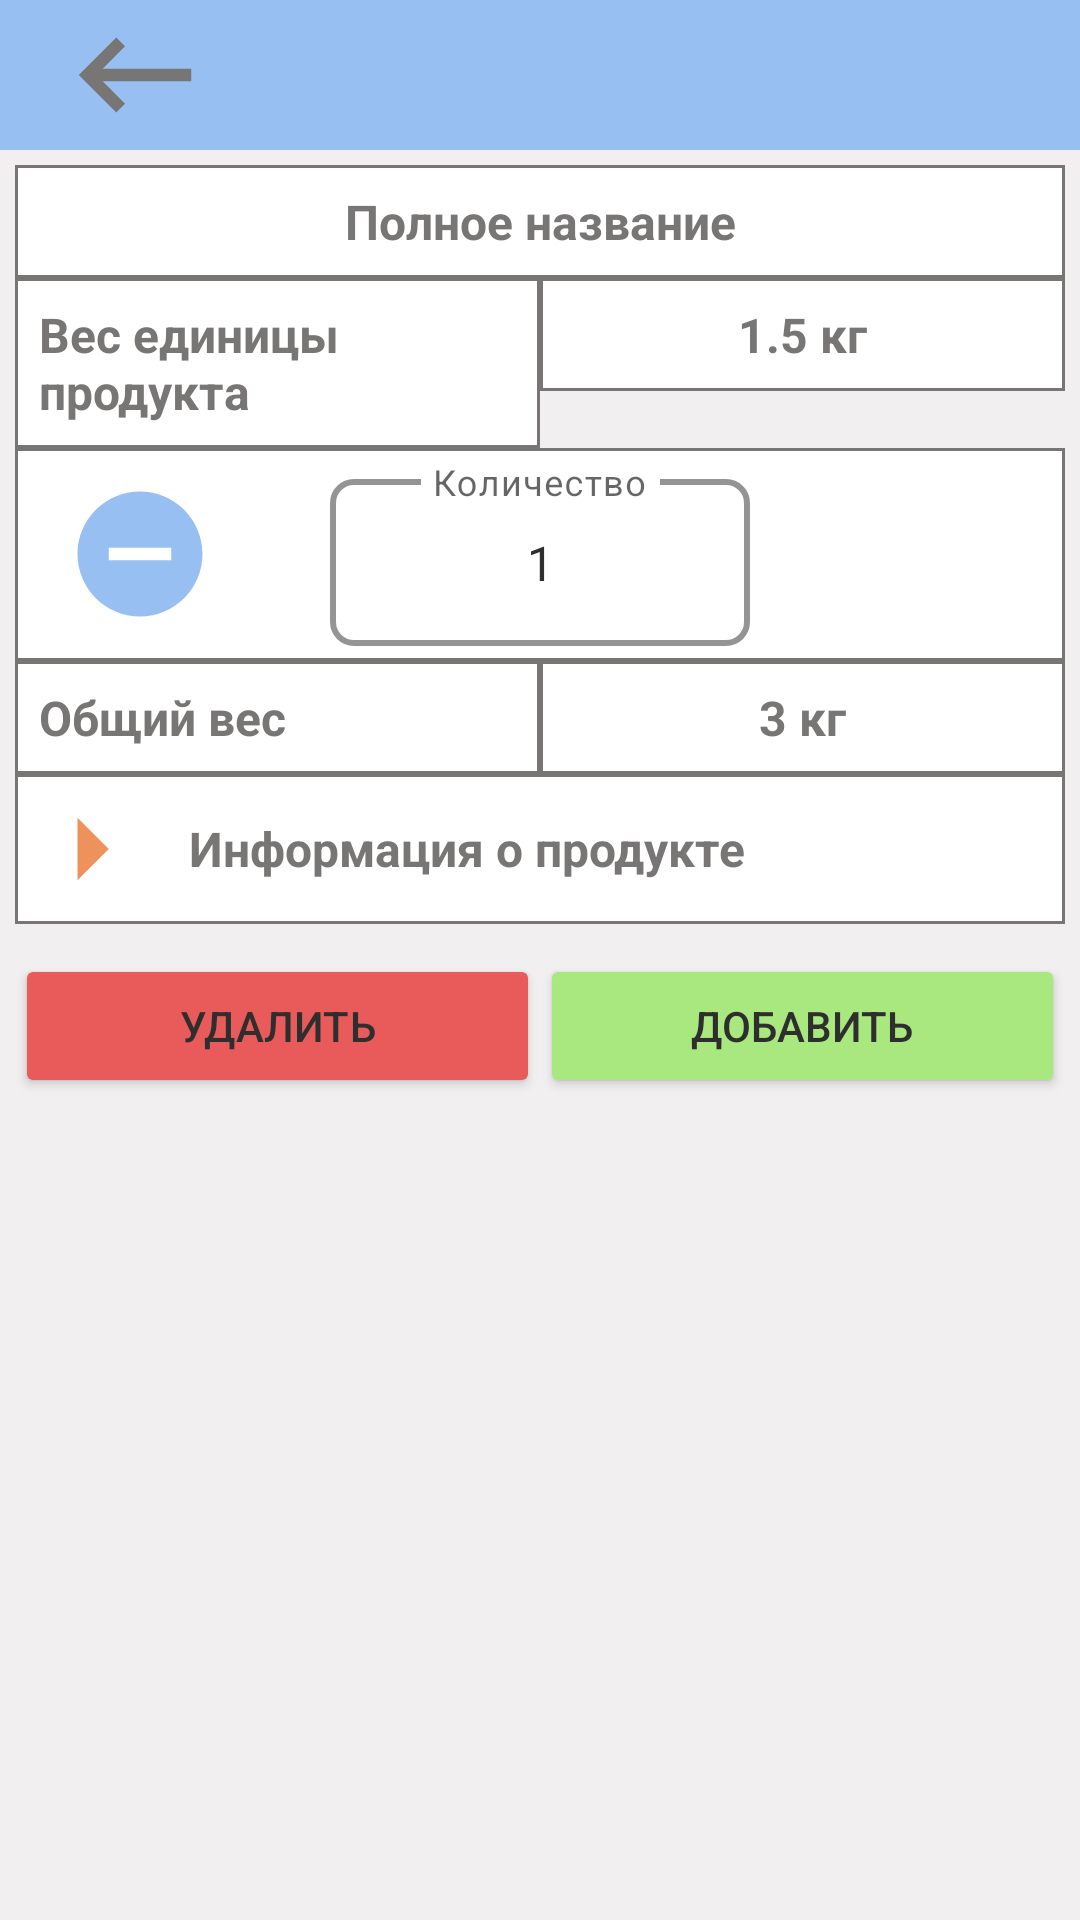

Point at icon controls on the screen. Image size 1080*1920, points as (x,y).
Назад: (135,75)
